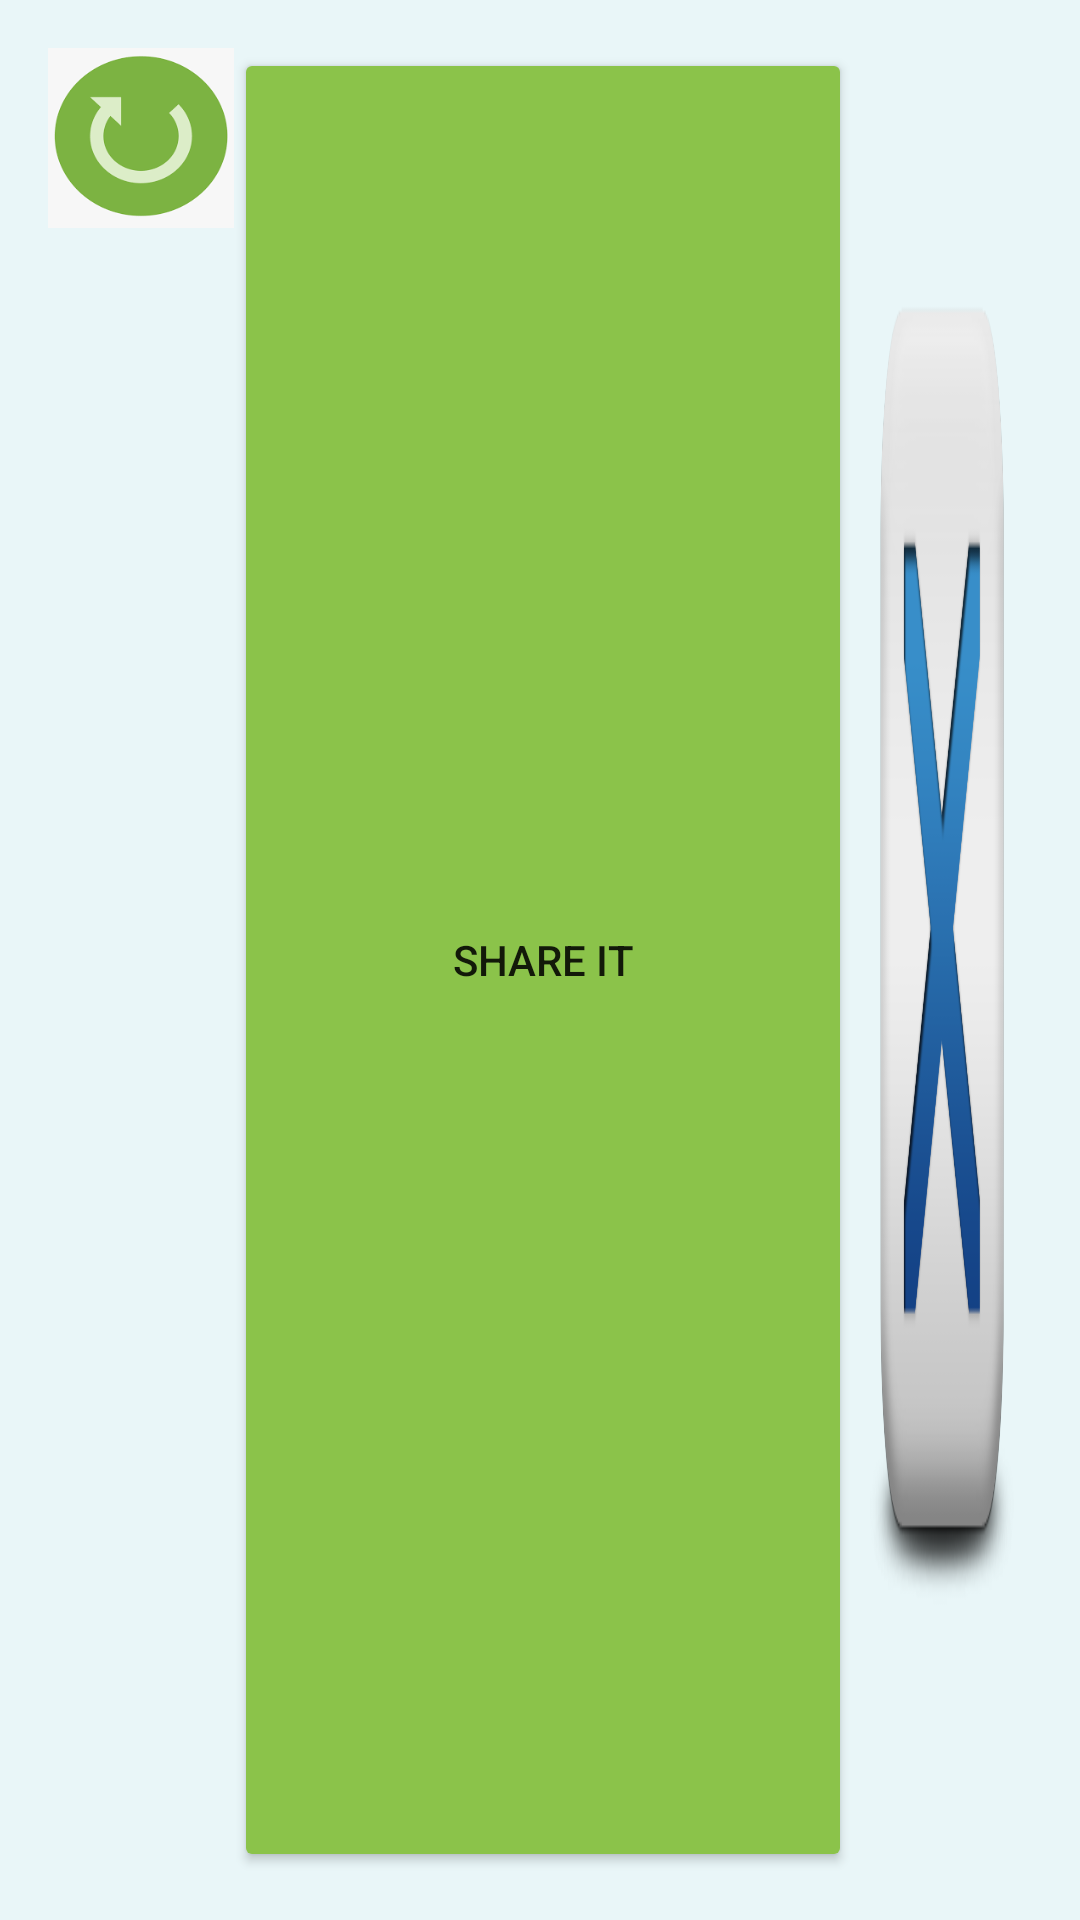

Named icons in this screenshot (1080*1920) and their centers, point (x, y):
restart: point (141, 136)
